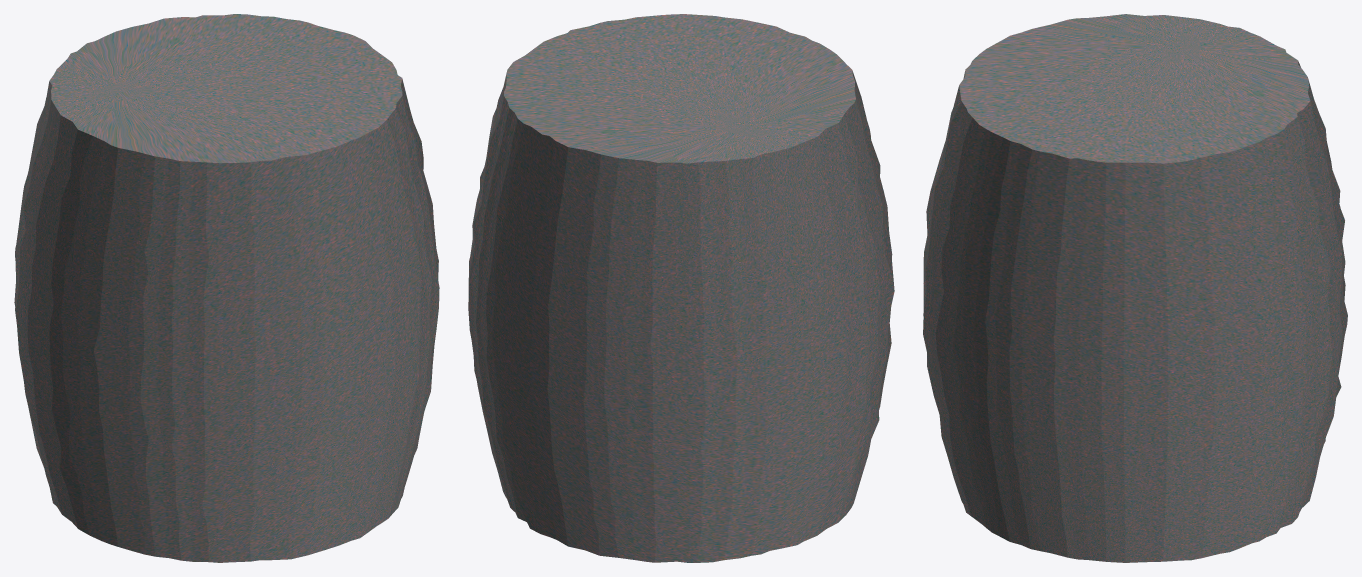
File: barrel_1.dae
3 views of the same model, side by side, from view 1: azimuth 30°, elevation 25°; view 2: azimuth 150°, elevation 25°; view 3: azimuth 270°, elevation 25° (orthographic).
Visible parts, largest first — view 1: Cylinder; view 2: Cylinder; view 3: Cylinder.
Part boxes in pixels (x1=…): Cylinder: x1=14, y1=14, x2=439, y2=562; Cylinder: x1=468, y1=14, x2=894, y2=562; Cylinder: x1=923, y1=14, x2=1347, y2=562.
Size of the model in its own units: 0.9669 by 0.9635 by 1.
1 material, 1 textured.
